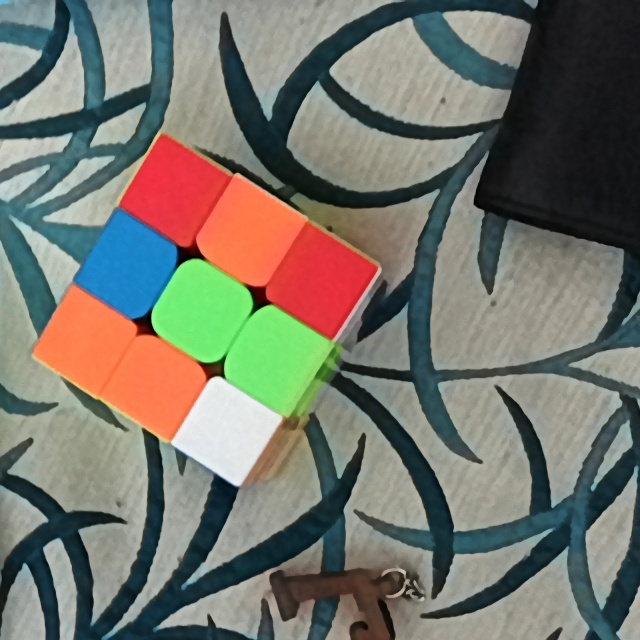tile: (292, 246, 350, 310), (128, 351, 184, 417), (221, 201, 280, 263), (140, 166, 203, 224), (243, 329, 303, 389), (58, 310, 116, 369), (194, 405, 256, 459), (171, 286, 230, 340), (102, 241, 153, 297)
